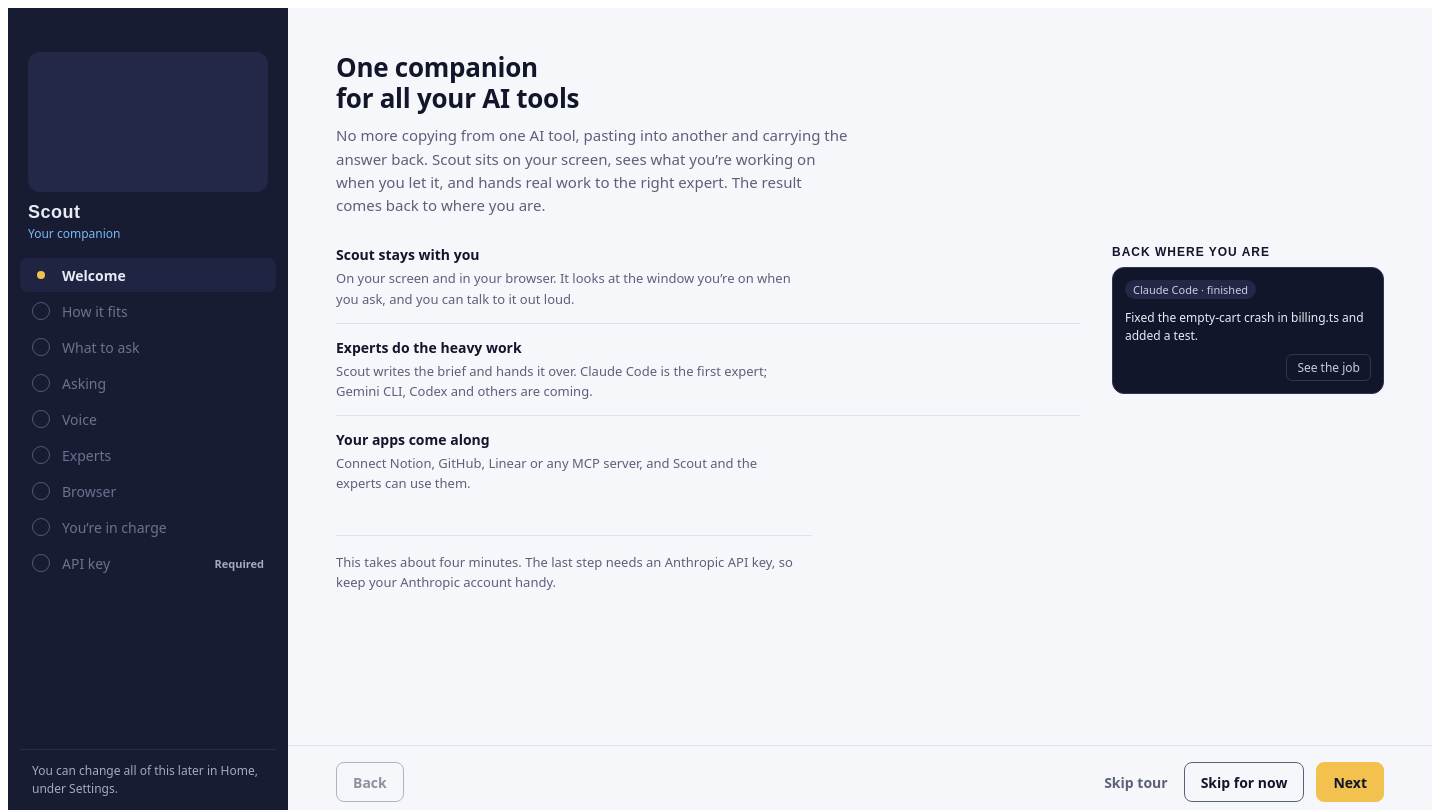
Test: Walkthrough › Next advances, and Skip for now advances without saving
The width and height of the screenshot is (1440, 810).
Expected: the heading "One companion for all your AI tools" is shown, [336,49,579,116]
Click the button "Next" at (1350, 782), box [1316,762,1384,802]
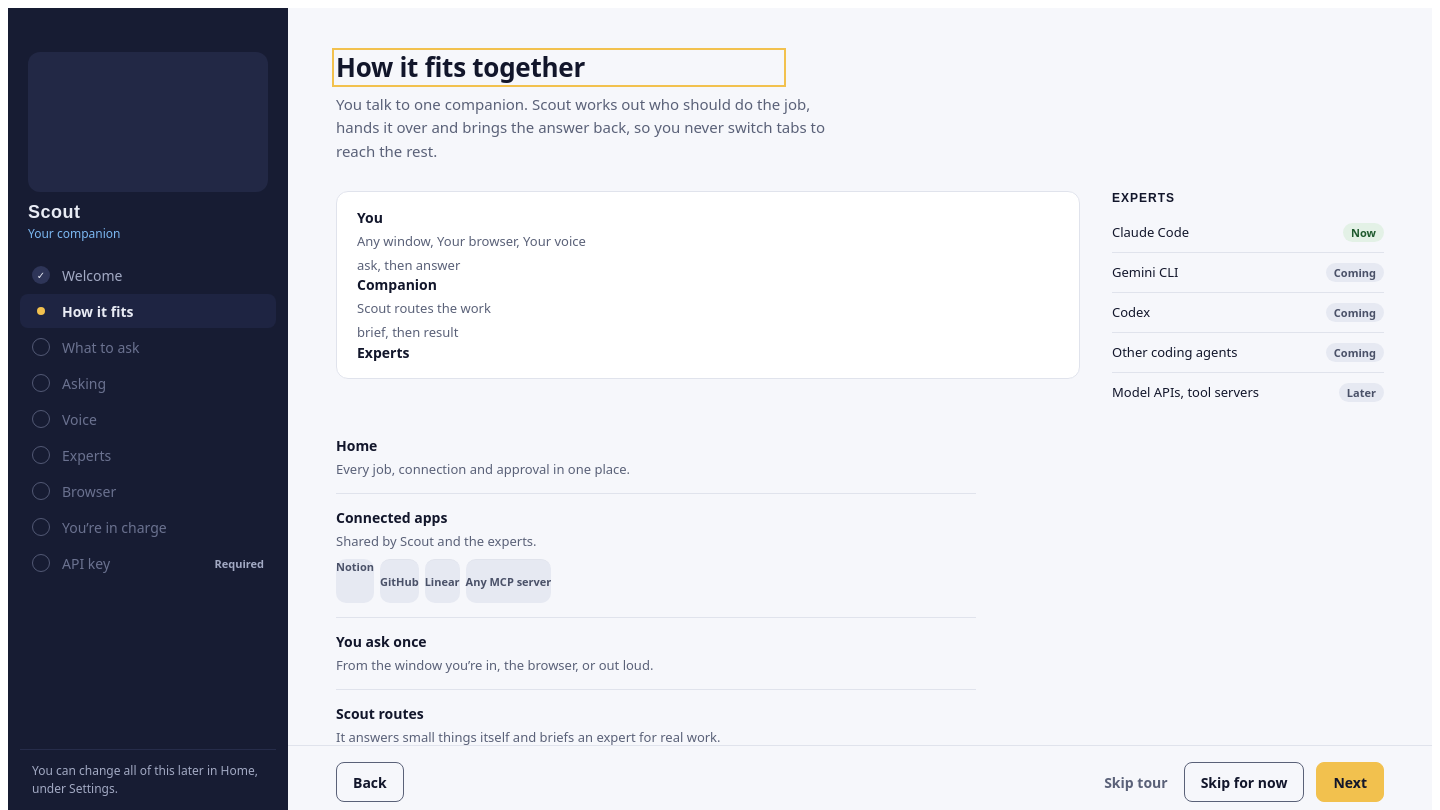
Expected: the heading "How it fits together" is shown, [336,49,585,85]
Click the button "Skip for now" at (1244, 782), box [1184,762,1304,802]
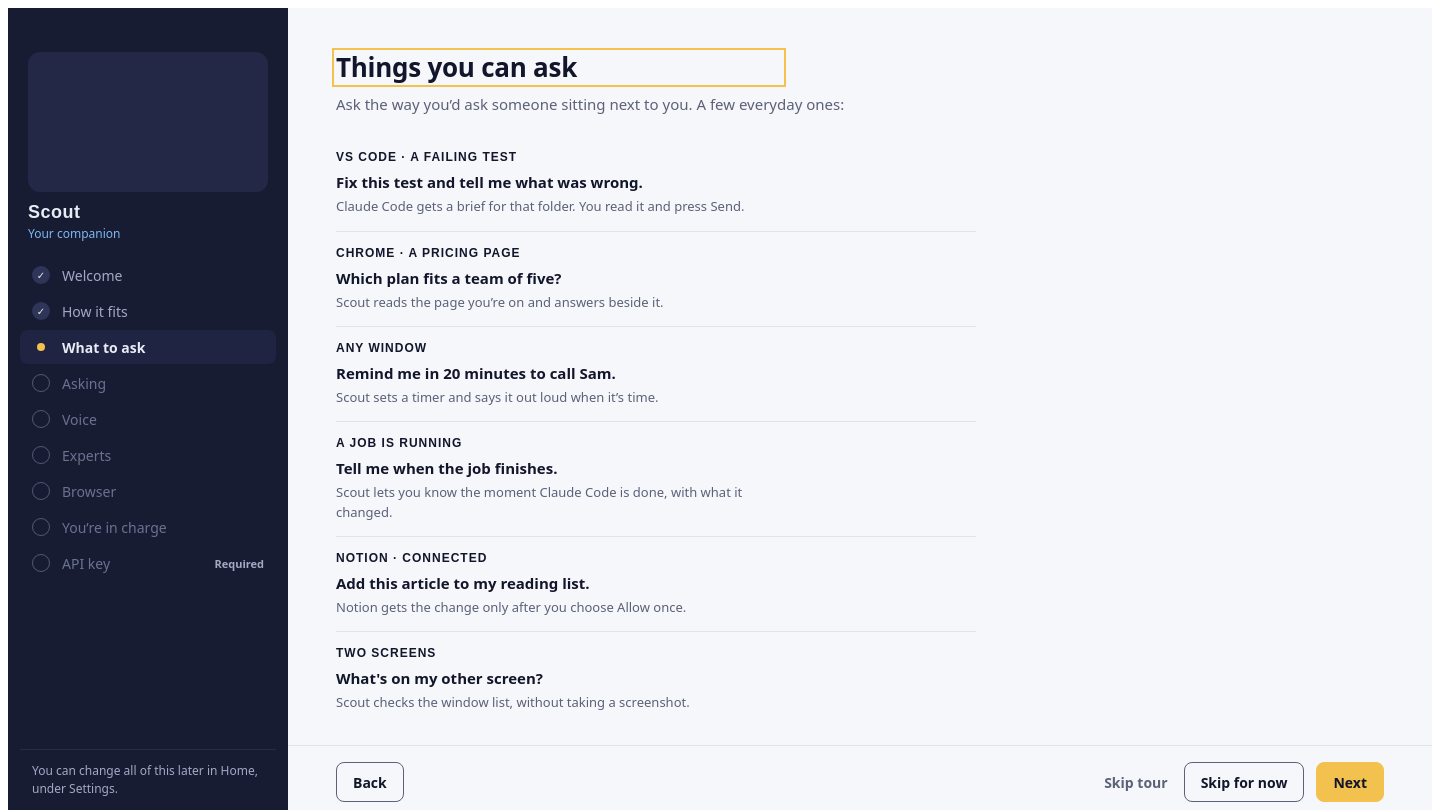
Expected: the heading "Things you can ask" is shown, [336,49,577,85]
